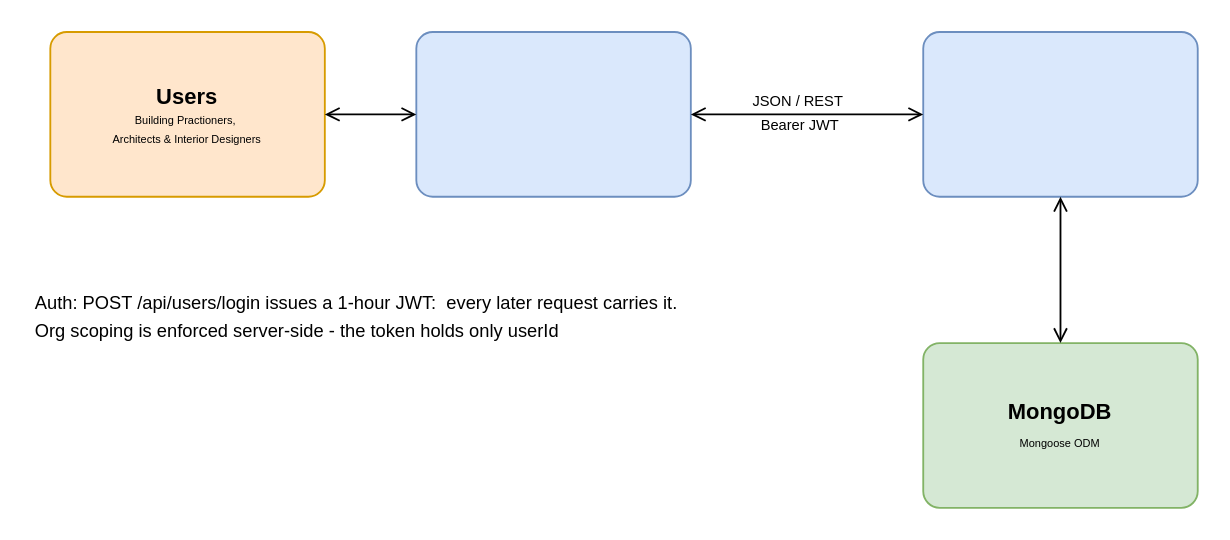
This 1230x540 diagram has some shape labels left out. The shapes that lost their labels are listed below. From the top down, each one's centre as x and y in pixels, then its label:
(552,113): React Client Vite + Material UI DataGrid Interfaces localStorage: JWT
(1059,113): Express API routes > controllers > services (MVC)
